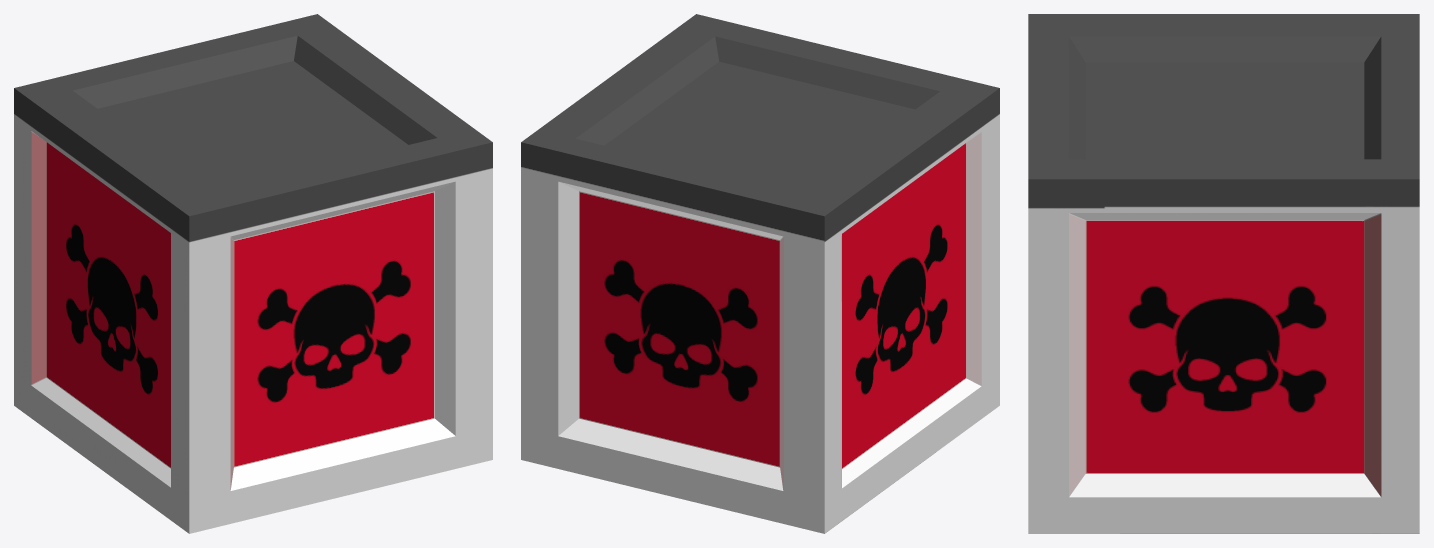
Rendered from Crate_Beryl.obj.
3 renders of one model, left to right at view 1: azimuth 30°, elevation 25°; view 2: azimuth 150°, elevation 25°; view 3: azimuth 270°, elevation 25°, orthographic. The views are drawn at different scales.
Parts seen in each view (by area): view 1: Crate:pCube2 Crate:polySurface2 Base_Crate; view 2: Crate:pCube2 Crate:polySurface2 Base_Crate; view 3: Crate:pCube2 Crate:polySurface2 Base_Crate.
Boxes of the visible parts, <box> form: Crate:pCube2 Crate:polySurface2 Base_Crate: <box>14,14,492,533</box>; Crate:pCube2 Crate:polySurface2 Base_Crate: <box>521,14,999,533</box>; Crate:pCube2 Crate:polySurface2 Base_Crate: <box>1028,14,1419,533</box>.
Size of the model in its own units: 1 by 1 by 1.
